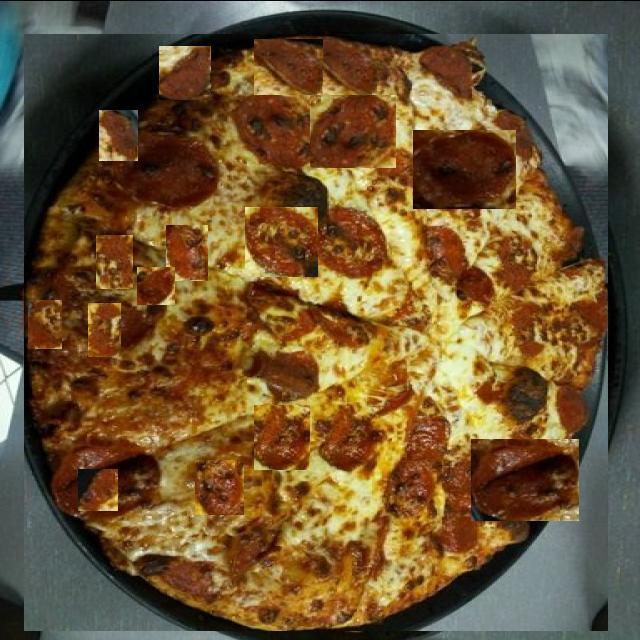pepperoni: (471, 438, 579, 520), (413, 129, 516, 208), (310, 94, 396, 167), (245, 206, 318, 276), (254, 38, 323, 94), (254, 404, 310, 469), (250, 302, 322, 348), (483, 302, 543, 350), (159, 45, 211, 99), (196, 459, 246, 514), (148, 496, 195, 552), (314, 350, 364, 400), (166, 224, 208, 280), (143, 444, 190, 493), (211, 148, 258, 194), (96, 234, 133, 288), (99, 109, 138, 160), (185, 414, 224, 464), (88, 302, 121, 356), (78, 468, 118, 510), (28, 299, 62, 348), (137, 266, 175, 304), (46, 384, 76, 431)
pizza: (24, 33, 608, 630)
